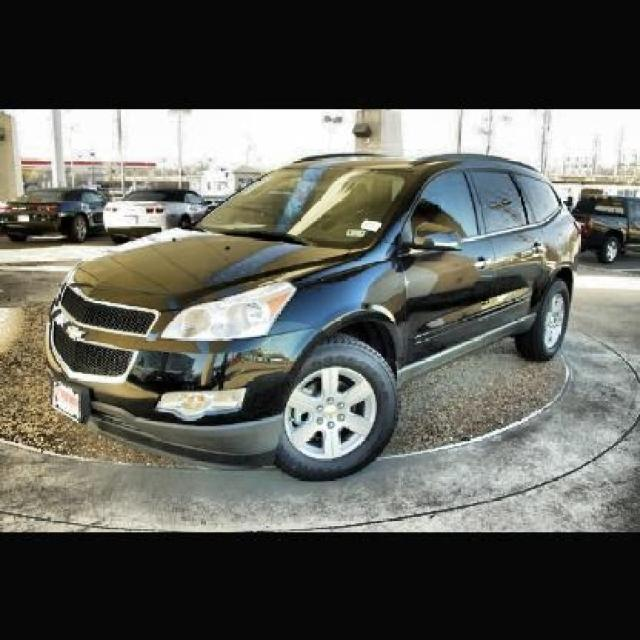black: (54, 136, 563, 465)
